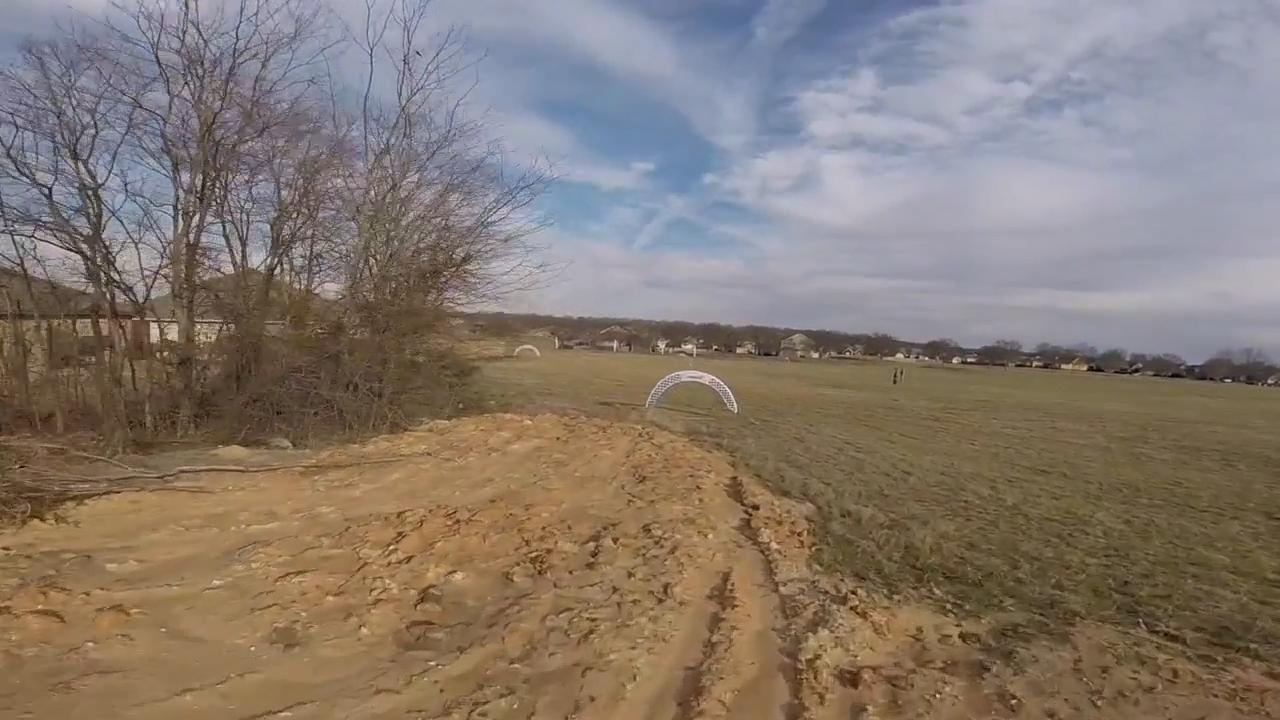gate: (641, 370, 741, 415)
